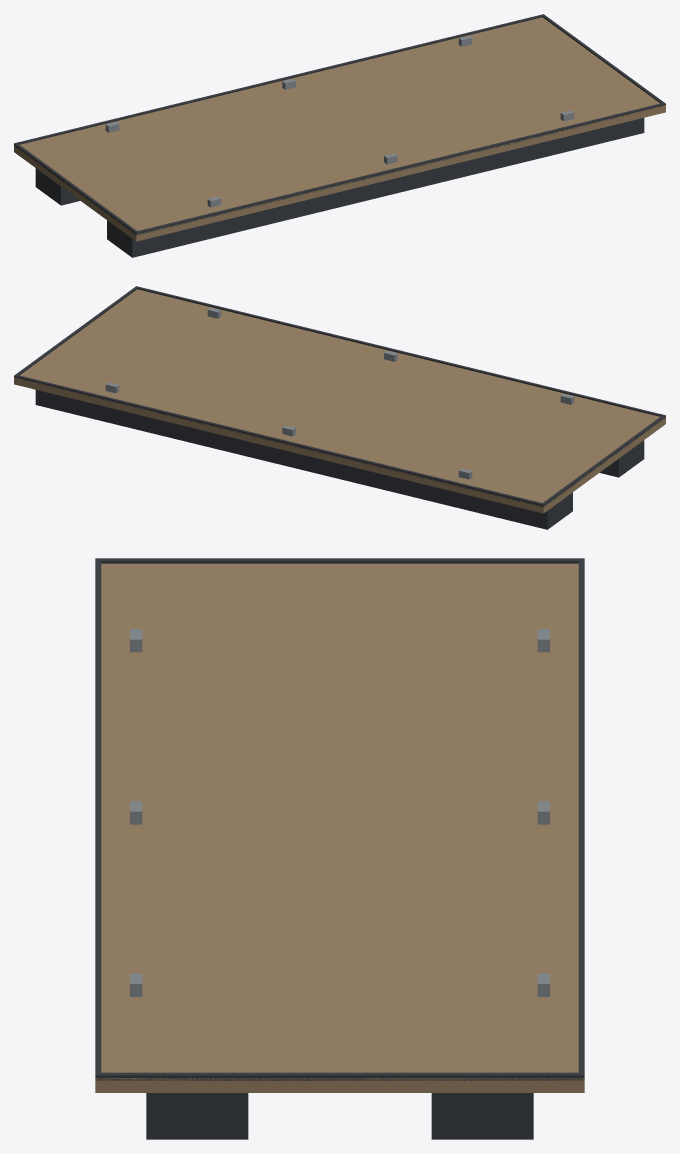
File: a03-pontoon-floating-dock.glb
3 renders of one model, top to bottom at view 1: azimuth 30°, elevation 25°; view 2: azimuth 150°, elevation 25°; view 3: azimuth 270°, elevation 25°, orthographic. The views are drawn at different scales.
Parts seen in each view (by area): view 1: part0, part1, part3, part4, part2; view 2: part0, part2, part3, part4, part1; view 3: part0, part3, part1, part2, part4.
Part boxes in pixels (x1,y1,x2,y2): part0: (14,17,665,241); part1: (107,118,644,257); part3: (14,14,665,235); part4: (105,35,574,207); part2: (35,168,80,205); part0: (14,289,665,513); part2: (35,390,572,529); part3: (14,286,665,507); part4: (105,307,574,479); part1: (599,440,644,477); part0: (95,563,584,1092); part3: (95,558,584,1080); part1: (146,1093,248,1139); part2: (431,1093,533,1139); part4: (130,629,549,996).
Size of the model in its own units: 6000 by 450 by 2400.
